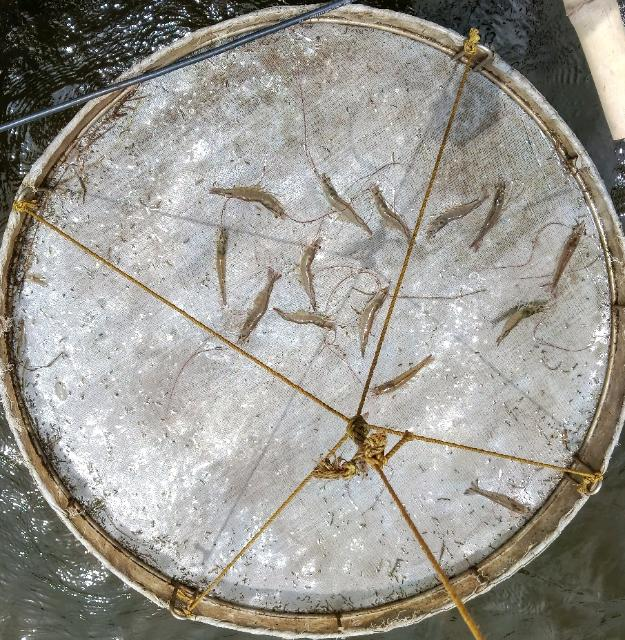shrimp: (239, 269, 281, 343), (320, 174, 370, 235), (428, 191, 488, 238), (211, 185, 288, 219), (550, 223, 584, 298), (371, 355, 433, 396), (371, 186, 411, 243), (465, 480, 530, 514), (496, 301, 545, 344), (360, 287, 389, 356), (298, 238, 321, 311), (274, 308, 336, 329), (217, 224, 227, 304)
